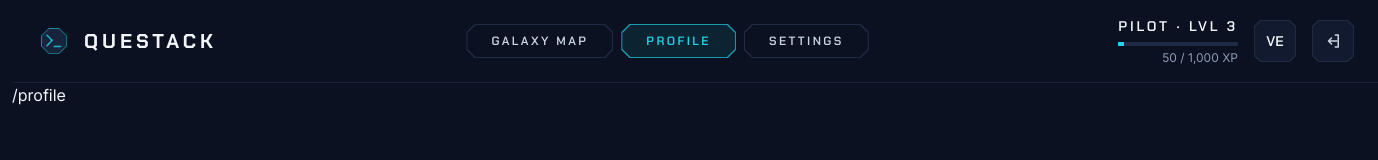
Test: TopNav › signs out and goes to the login screen
Click the button named "Sign out": (1333, 41) [1312,20,1354,62]
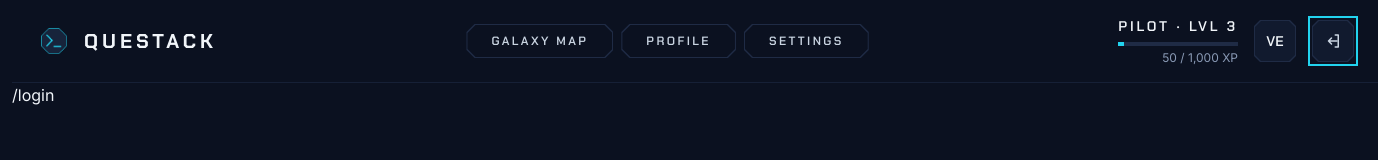
Now the text with test id "location" reads "/login", box [12,85,54,105]
